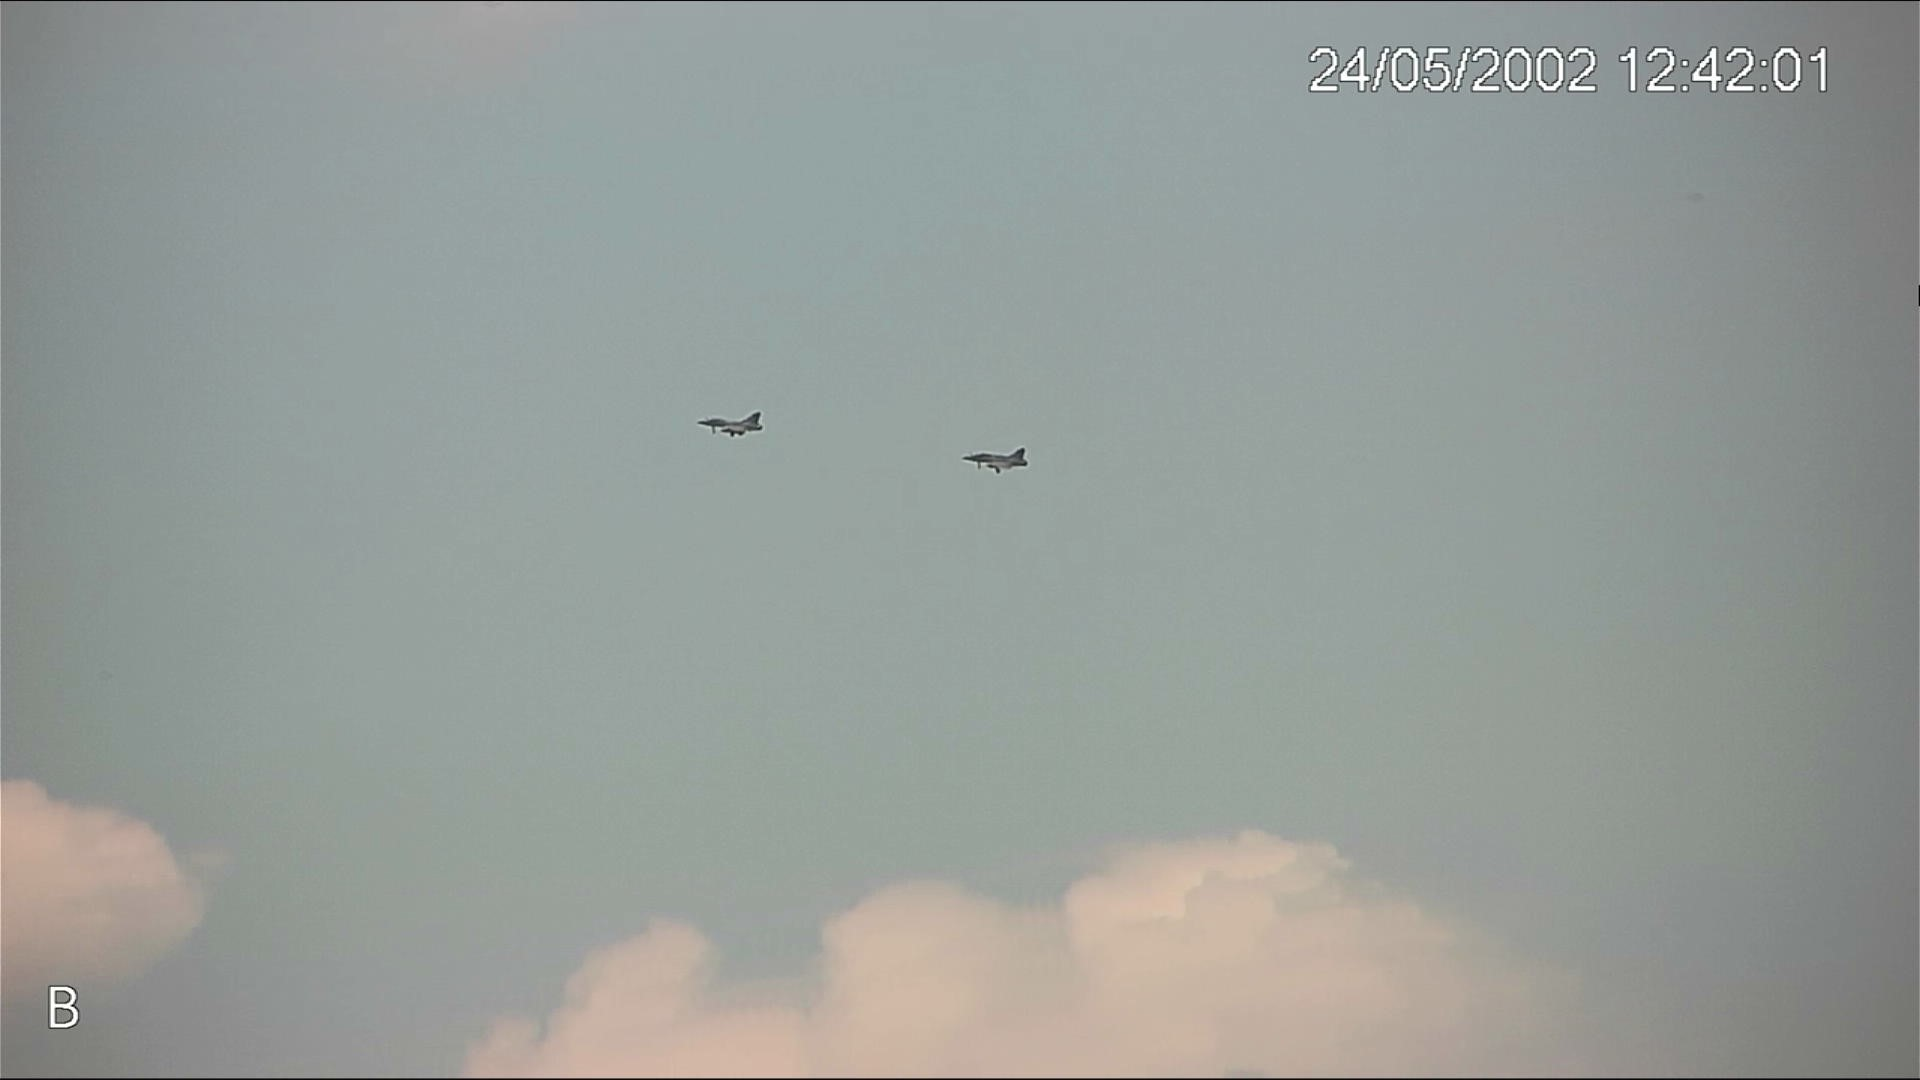SU_30: (963, 444, 1033, 473), (696, 410, 765, 438)
